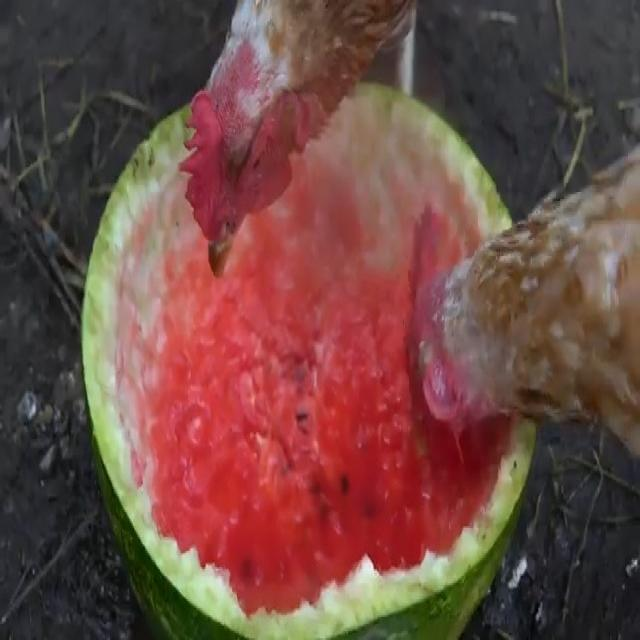feeding: (133, 0, 405, 292), (411, 169, 640, 469)
